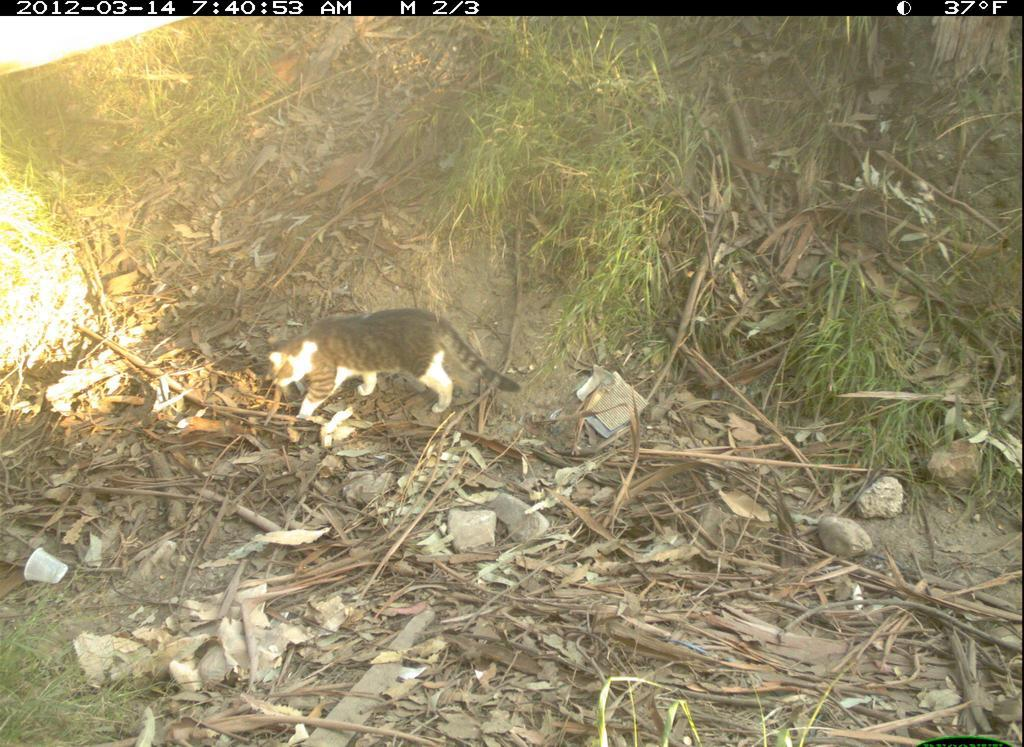cat: (258, 297, 534, 440)
